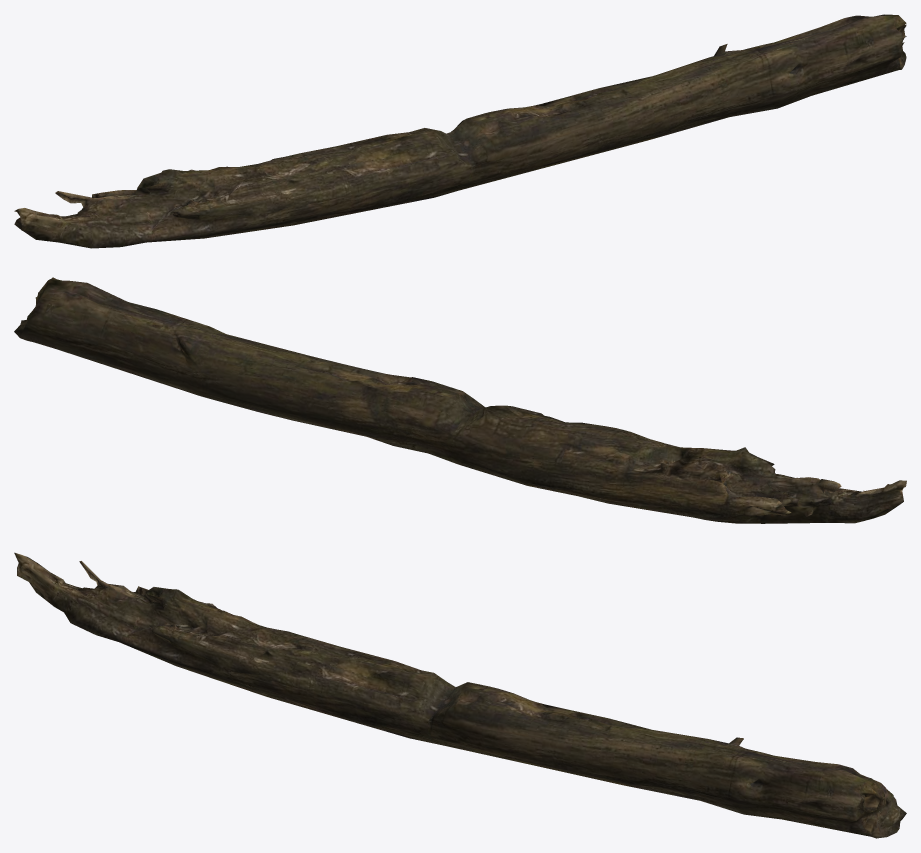
Rendered from dead_tree_trunk.lod.glb.
3 views of the same model, one above another, from view 1: azimuth 30°, elevation 25°; view 2: azimuth 150°, elevation 25°; view 3: azimuth 330°, elevation 25° (orthographic).
Parts seen in each view (by area): view 1: dead_tree_trunk; view 2: dead_tree_trunk; view 3: dead_tree_trunk.
Boxes of the visible parts, left/top/right/bottom form: dead_tree_trunk: left=14, top=14, right=906, bottom=248; dead_tree_trunk: left=14, top=277, right=906, bottom=523; dead_tree_trunk: left=14, top=552, right=906, bottom=838.
Size of the model in its own units: 3.05 by 0.2847 by 0.2724.
1 material, 1 textured.
